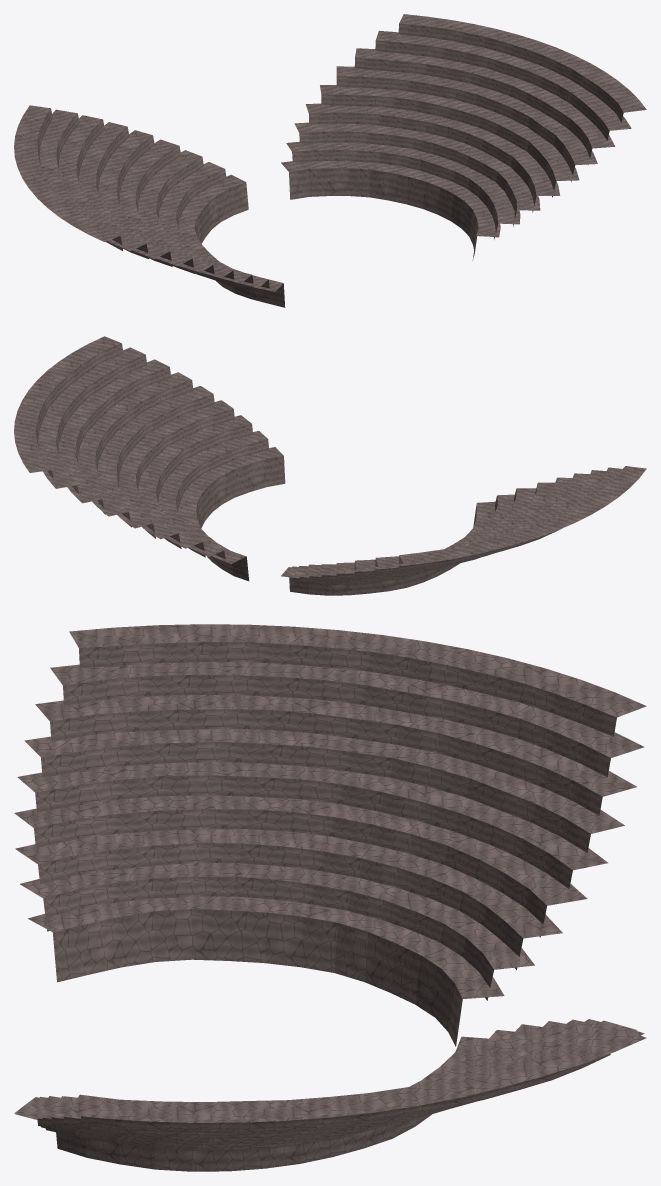
Rendered from Terraces.obj.
3 renders of one model, top to bottom at view 1: azimuth 30°, elevation 25°; view 2: azimuth 150°, elevation 25°; view 3: azimuth 270°, elevation 25°, orthographic. The views are drawn at different scales.
Parts seen in each view (by area): view 1: Terraces; view 2: Terraces; view 3: Terraces.
Boxes of the visible parts, bbox=[...] form: Terraces: bbox=[14, 14, 646, 307]; Terraces: bbox=[14, 336, 646, 595]; Terraces: bbox=[14, 624, 646, 1171].
Size of the model in its own units: 84.59 by 15.4 by 45.64.
1 material, 1 textured.
